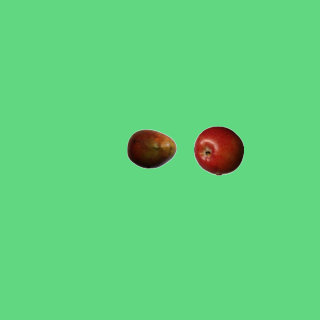Apple Braeburn: (193, 125, 243, 175)
Mango Red: (126, 123, 176, 173)
